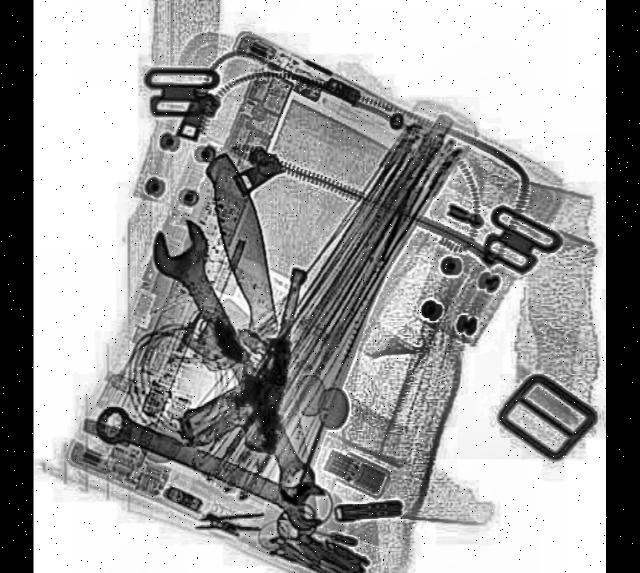Gun: (178, 248, 309, 465)
Knife: (202, 148, 336, 518)
Wrench: (144, 207, 330, 520), (93, 398, 332, 538)
